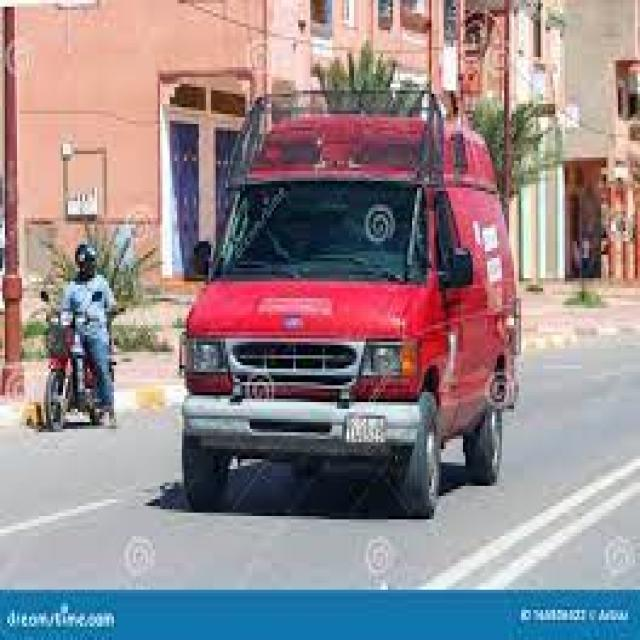ambulance: (157, 67, 536, 532)
